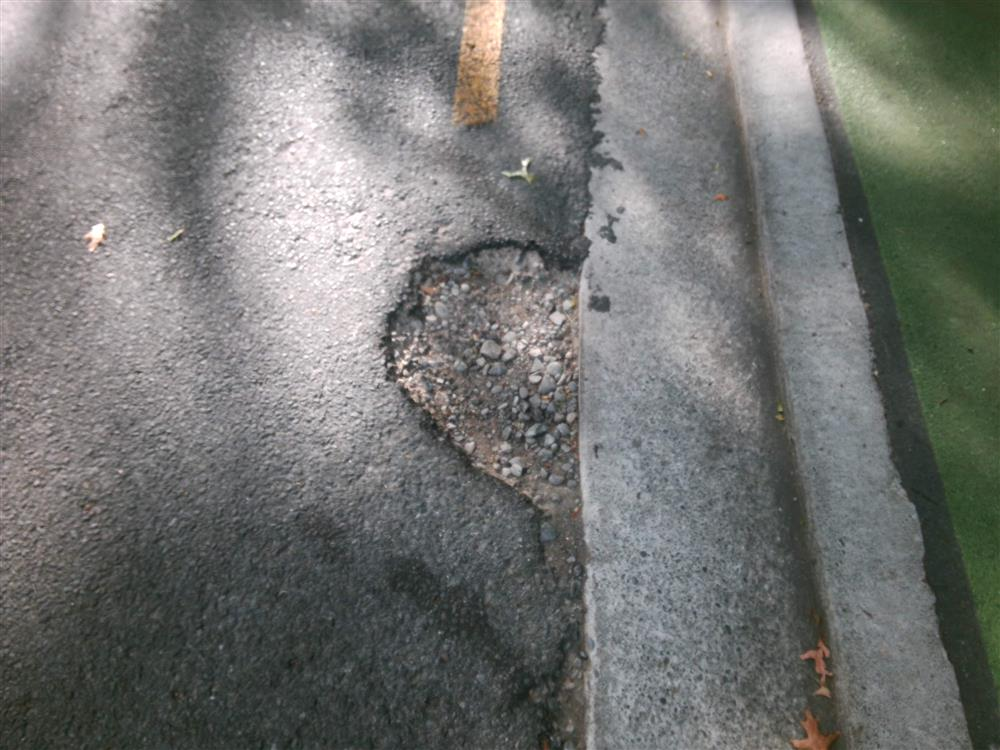pothole: (374, 237, 588, 538)
